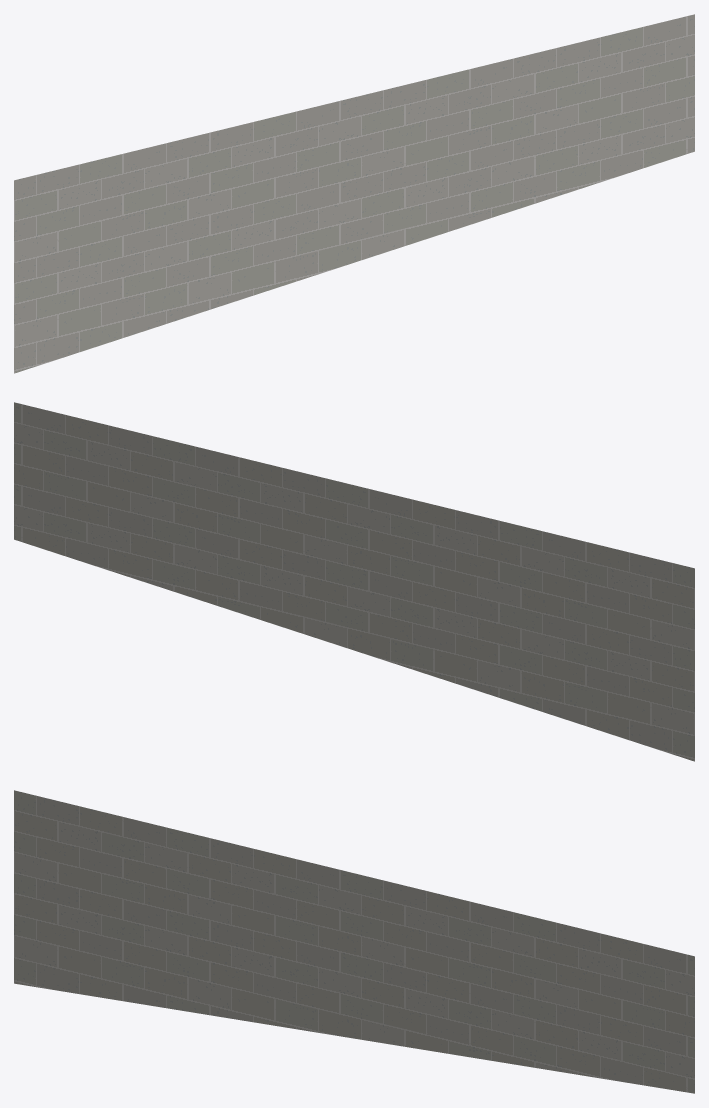
File: kd_stage_135ded_1_12_exterior.glb
3 renders of one model, top to bottom at view 1: azimuth 30°, elevation 25°; view 2: azimuth 150°, elevation 25°; view 3: azimuth 330°, elevation 25°, orthographic.
Visible parts, largest first — view 1: kd_stage_135ded_1_12_exterior; view 2: kd_stage_135ded_1_12_exterior; view 3: kd_stage_135ded_1_12_exterior.
Part boxes in pixels (box(x1,y1,x2,y2)): kd_stage_135ded_1_12_exterior: box(14, 14, 694, 373); kd_stage_135ded_1_12_exterior: box(14, 402, 694, 761); kd_stage_135ded_1_12_exterior: box(14, 790, 694, 1093).
Size of the model in its own units: 8.39 by 2.28 by 6.68e-06.
Materials: 1 (1 with a texture image).
